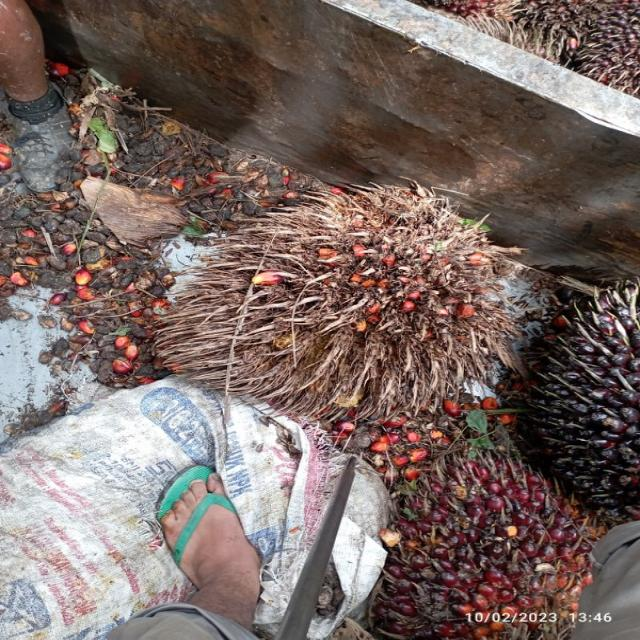fraksi 00: (533, 276, 640, 500)
fraksi 1: (359, 464, 587, 638)
fraksi 4: (176, 143, 555, 432)
